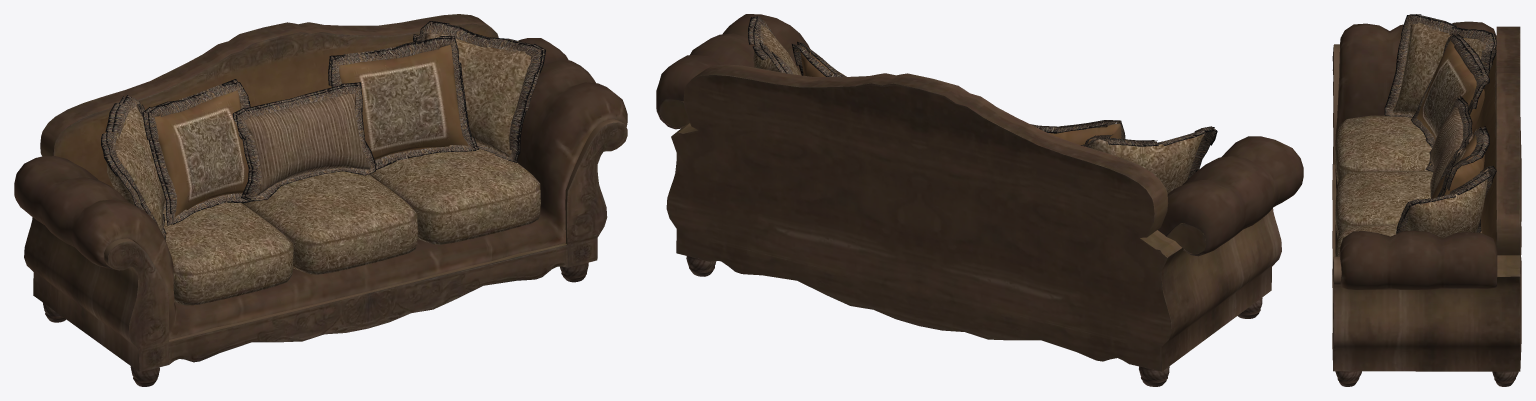
Rendered from ph-sofa_03.glb.
3 views of the same model, side by side, from view 1: azimuth 30°, elevation 25°; view 2: azimuth 150°, elevation 25°; view 3: azimuth 270°, elevation 25° (orthographic). The views are drawn at different scales.
Visible parts, largest first — view 1: sofa_03; view 2: sofa_03; view 3: sofa_03.
Boxes of the visible parts, box(x1,y1,x2,y2) form: sofa_03: box(14, 14, 627, 386); sofa_03: box(656, 14, 1303, 386); sofa_03: box(1332, 14, 1521, 386).
Size of the model in its own units: 1 by 0.4094 by 0.3386.
2 materials, 2 textured.
